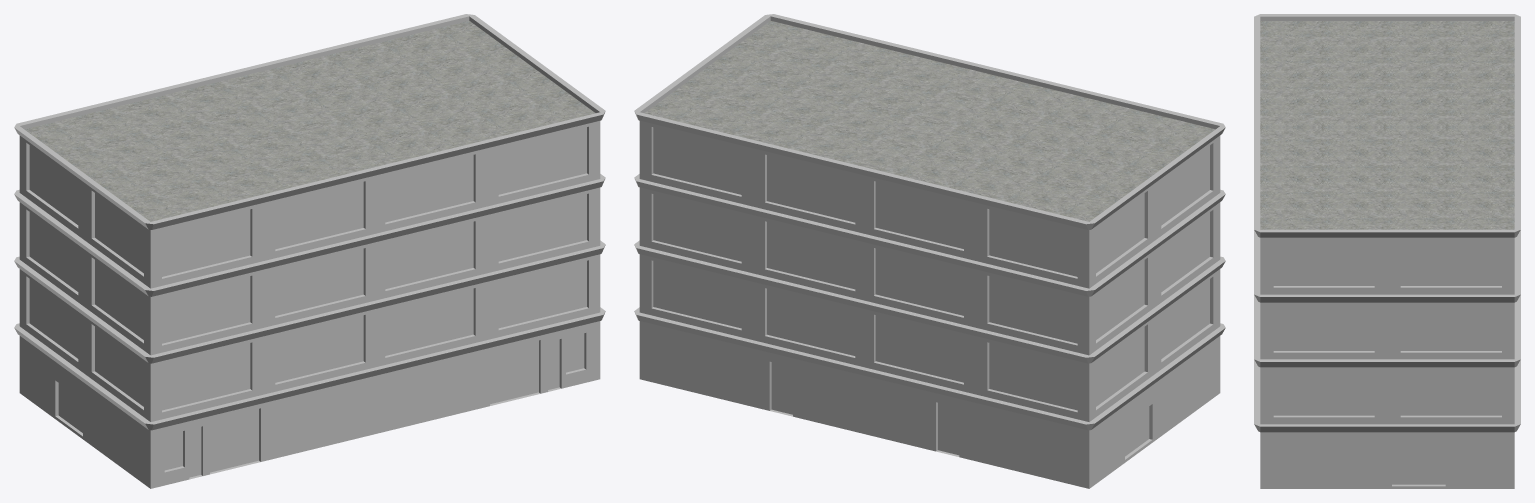
Rendered from RV_Building_Type_B_009.fbx.
The picture shows the model from 3 angles, left to right: view 1: azimuth 30°, elevation 25°; view 2: azimuth 150°, elevation 25°; view 3: azimuth 270°, elevation 25°; orthographic projection. The views are drawn at different scales.
Parts seen in each view (by area): view 1: RV_Building_Type_B_009; view 2: RV_Building_Type_B_009; view 3: RV_Building_Type_B_009.
Boxes of the visible parts, left/top/right/bottom form: RV_Building_Type_B_009: left=14, top=14, right=605, bottom=488; RV_Building_Type_B_009: left=634, top=14, right=1225, bottom=488; RV_Building_Type_B_009: left=1254, top=14, right=1520, bottom=488.
Bounding box in the file's own units: 2080 × 1152 × 1074.
